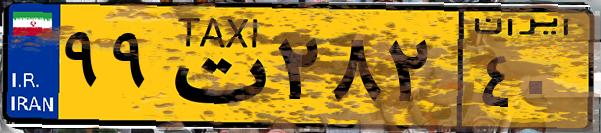0: (525, 38, 570, 115)
2: (270, 28, 330, 110), (385, 28, 445, 110)
4: (475, 38, 525, 113)
8: (330, 28, 385, 110)
9: (57, 26, 110, 100), (110, 28, 158, 98)
ت: (158, 12, 270, 120)
